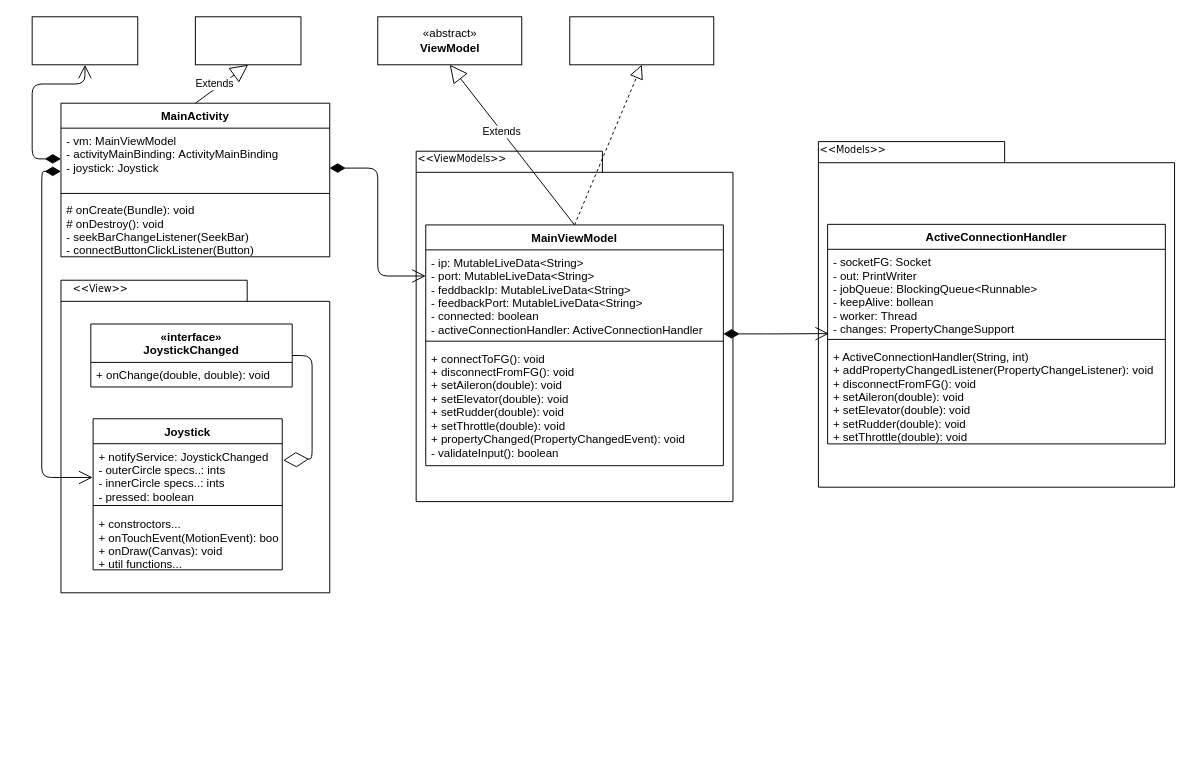
Some shapes in this 1191 by 778 pixel diagram are drawn without their labels. Here are the shapes that lost their labels. From the top down, the centre of each, then its label:
point 84,40: ActivityMainBinding
point 247,40: AppCompactActivity
point 641,40: «interface» PropertyChangedListener
